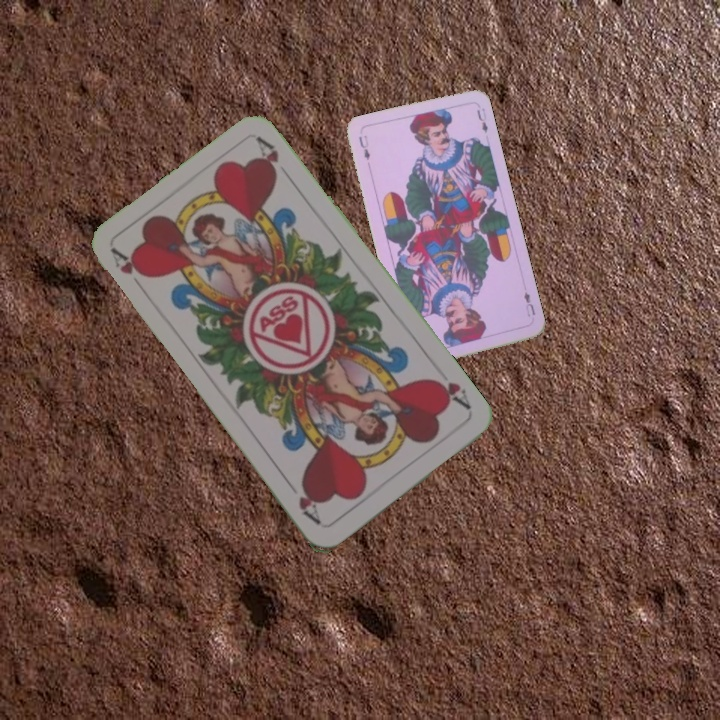EU: (520, 288, 538, 319), (355, 131, 373, 162)
HA: (107, 244, 152, 296), (426, 373, 474, 413)
